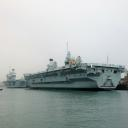Portanaves: (24, 41, 126, 93), (2, 69, 30, 89)
